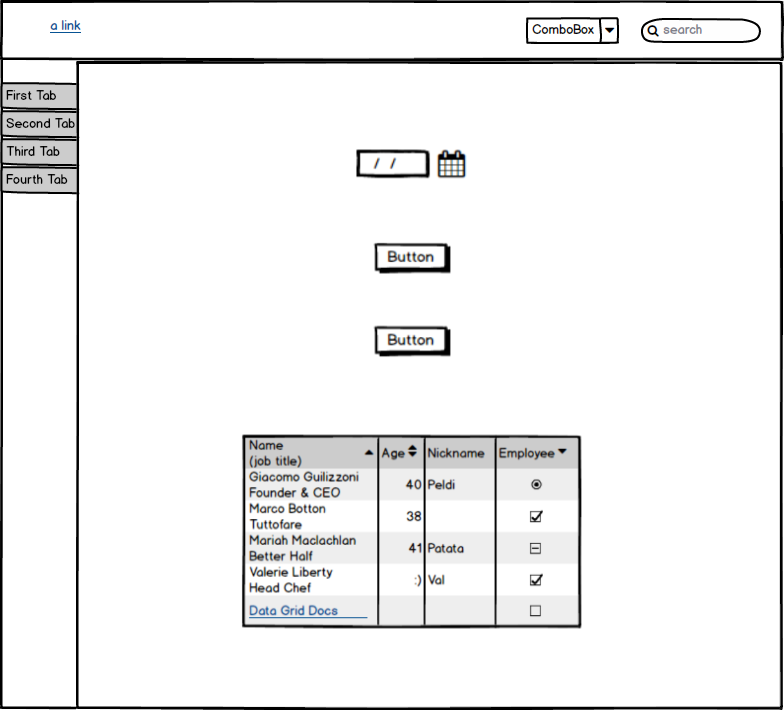button: (368, 317, 456, 359), (368, 240, 460, 279)
date_picker: (347, 141, 477, 186)
navlink: (42, 16, 92, 37)
search: (638, 12, 766, 48)
select_box: (519, 12, 626, 48)
sidebar: (2, 76, 81, 200)
table: (234, 431, 583, 636)
